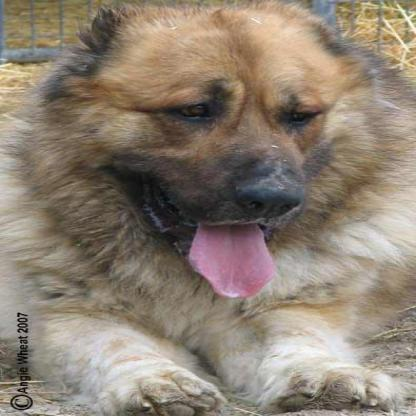Tibetan_mastiff: (0, 4, 413, 413)
